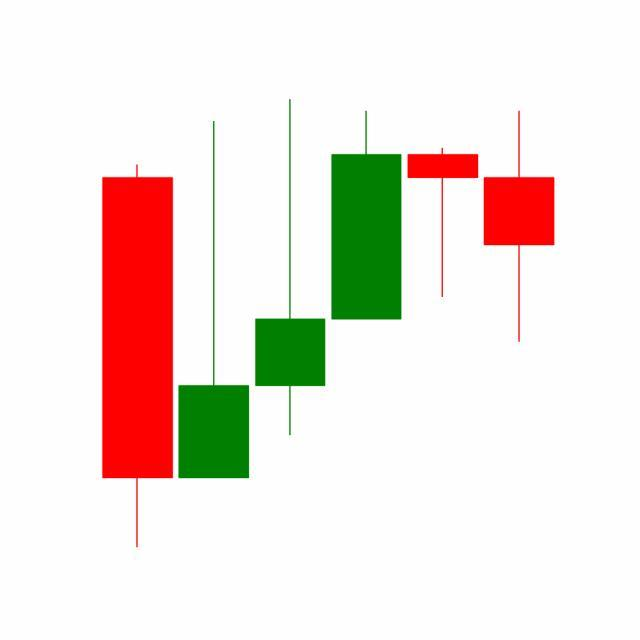Dragonfly Doji: (404, 147, 482, 300)
